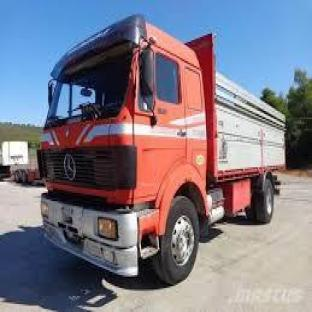Vehicle: (35, 35, 300, 283)
